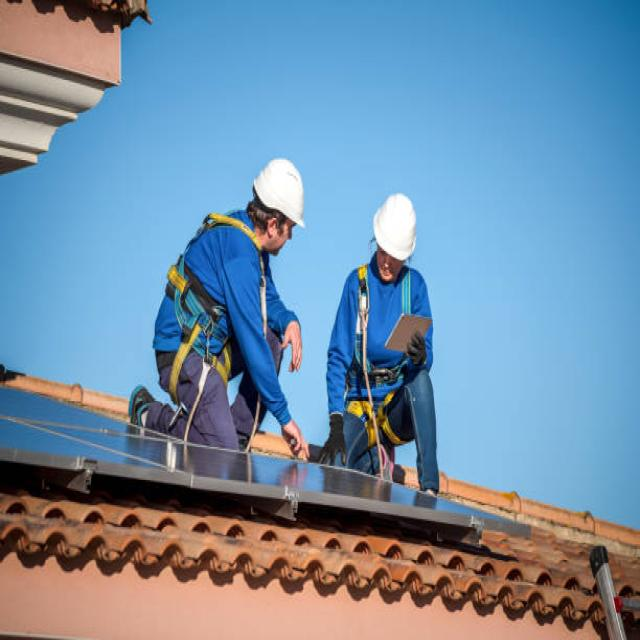Gloves: (314, 406, 350, 470), (401, 323, 432, 378)
helmet: (251, 158, 307, 232), (372, 191, 417, 263)
person: (127, 155, 311, 468), (316, 188, 442, 495)
